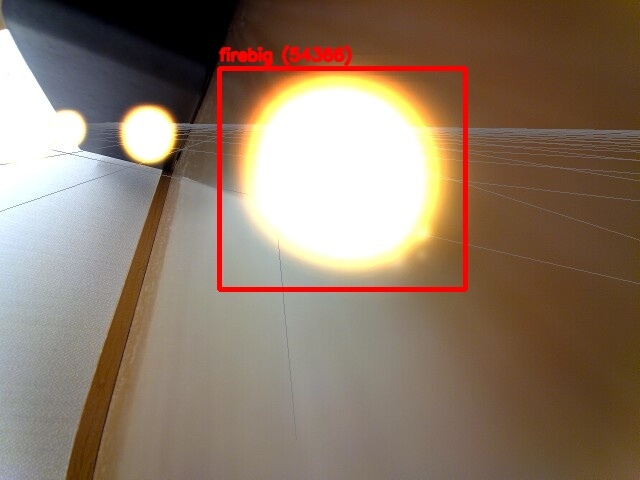firebig: (219, 68, 465, 289)
